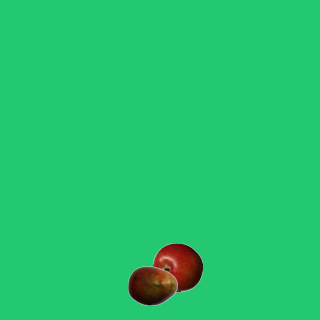Apple Braeburn: (152, 242, 202, 292)
Mango Red: (127, 260, 177, 310)
